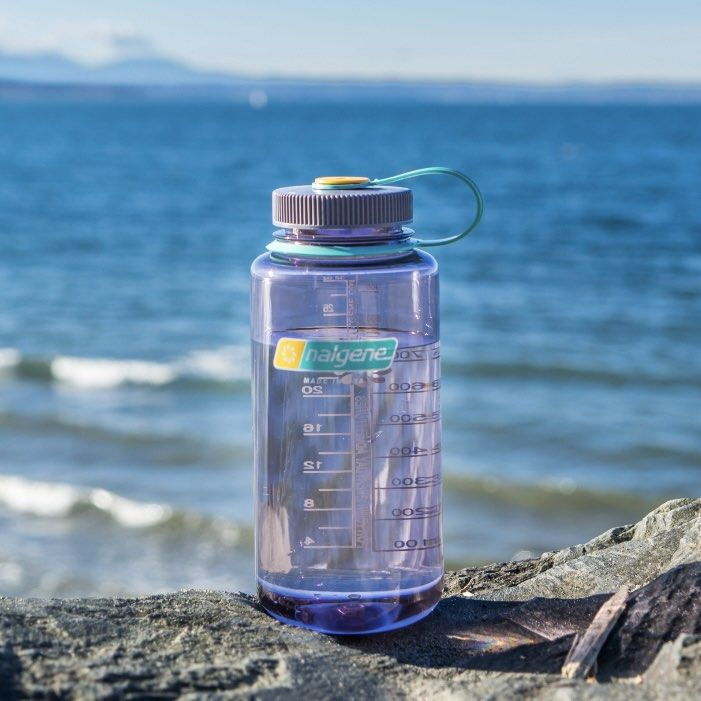waterbottle: (247, 164, 484, 636)
